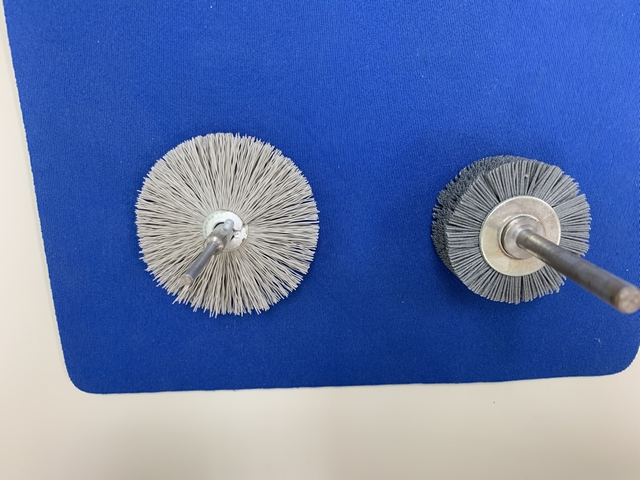TOOL: (124, 126, 329, 321), (164, 125, 302, 321), (123, 127, 321, 255), (121, 214, 329, 325)
Wheel Brush: (420, 143, 639, 320), (421, 141, 584, 318), (419, 144, 640, 267), (422, 203, 638, 323), (421, 147, 558, 325)
